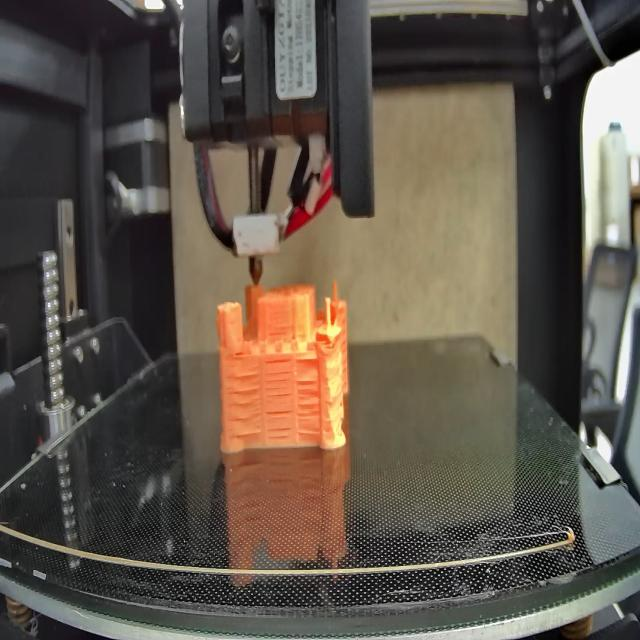cracks: (228, 374, 261, 437), (297, 377, 321, 439), (264, 358, 292, 401), (266, 408, 296, 442), (296, 354, 320, 367), (268, 323, 290, 336), (231, 344, 246, 359)
